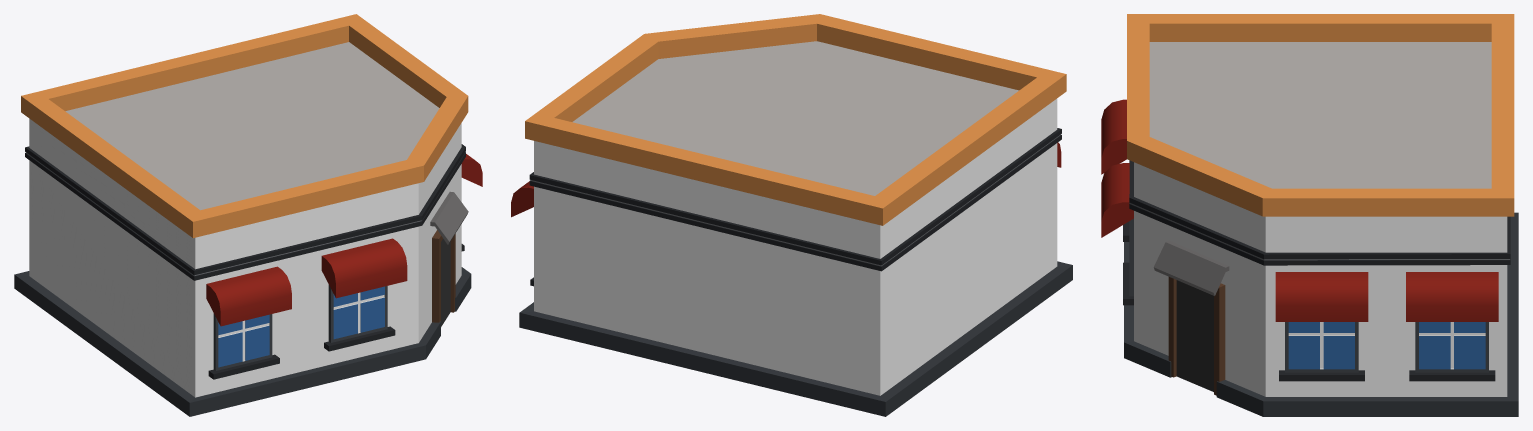
The model's file is Shop_3.fbx.
The picture shows the model from 3 angles, left to right: view 1: azimuth 30°, elevation 25°; view 2: azimuth 150°, elevation 25°; view 3: azimuth 270°, elevation 25°; orthographic projection. The views are drawn at different scales.
Visible parts, largest first — view 1: Shop_3; view 2: Shop_3; view 3: Shop_3.
Boxes of the visible parts, bbox=[...] form: Shop_3: bbox=[14, 14, 482, 416]; Shop_3: bbox=[511, 14, 1072, 416]; Shop_3: bbox=[1101, 14, 1518, 416].
Size of the model in its own units: 1230 by 629 by 1097.
